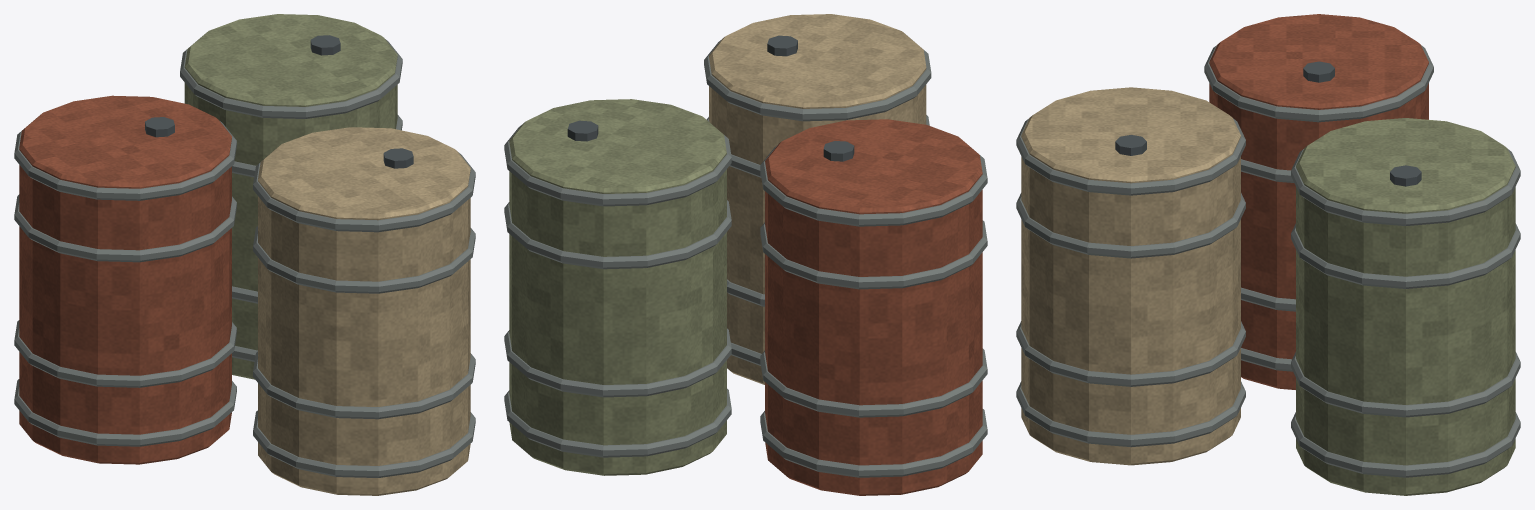
3 views of the same model, side by side, from view 1: azimuth 30°, elevation 25°; view 2: azimuth 150°, elevation 25°; view 3: azimuth 270°, elevation 25° (orthographic). The views are drawn at different scales.
Parts seen in each view (by area): view 1: ST2-P01_Mesh; view 2: ST2-P01_Mesh; view 3: ST2-P01_Mesh.
Part boxes in pixels (left/top/right/bottom): ST2-P01_Mesh: left=14, top=14, right=475, bottom=495; ST2-P01_Mesh: left=504, top=14, right=987, bottom=495; ST2-P01_Mesh: left=1016, top=14, right=1520, bottom=495.
Bounding box in the file's own units: 1.64 × 1.13 × 1.74.
